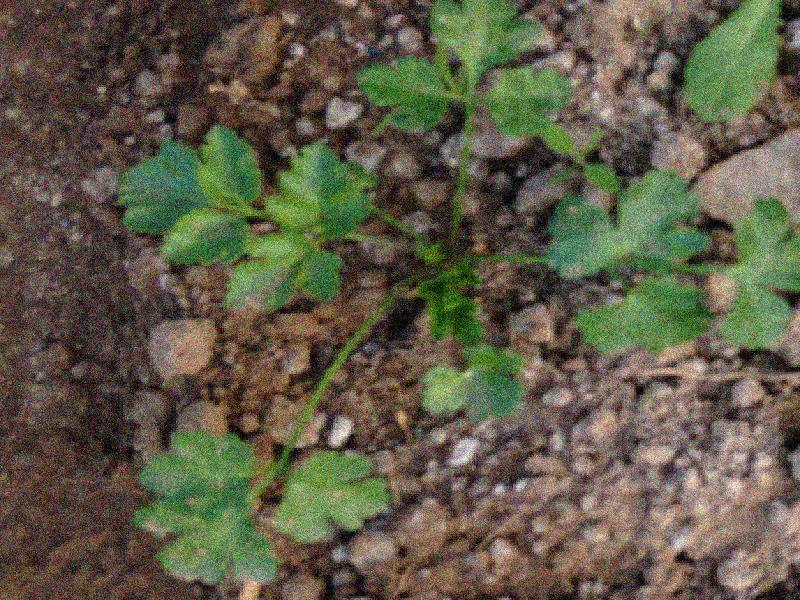radish: (0, 16, 714, 600)
